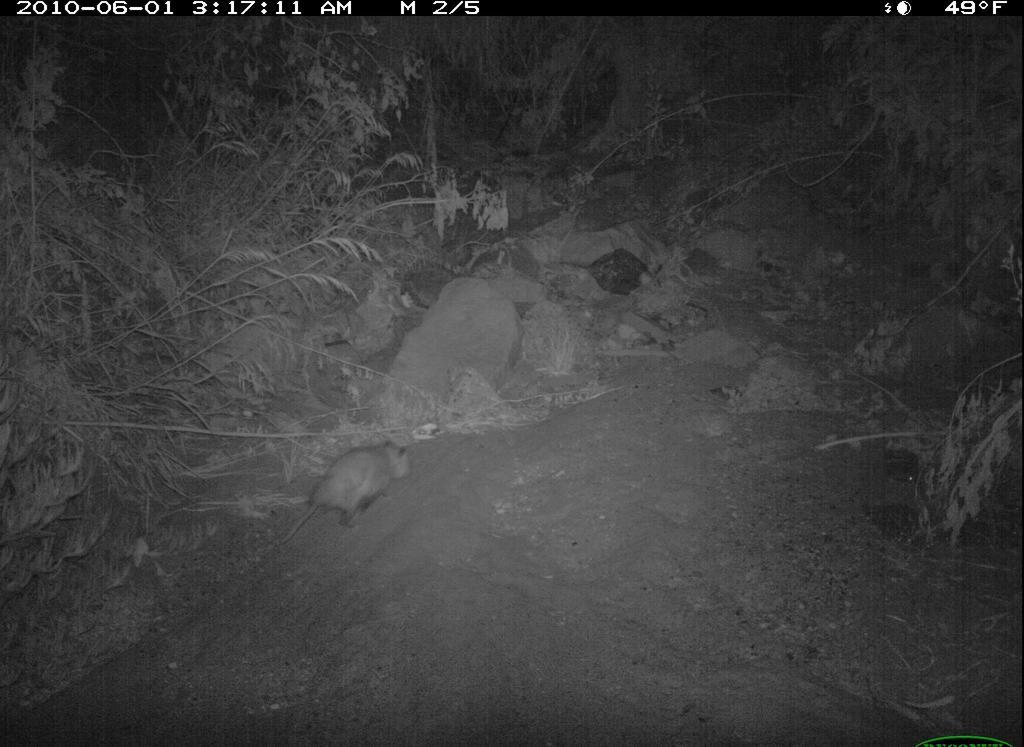opossum: (240, 418, 447, 565)
